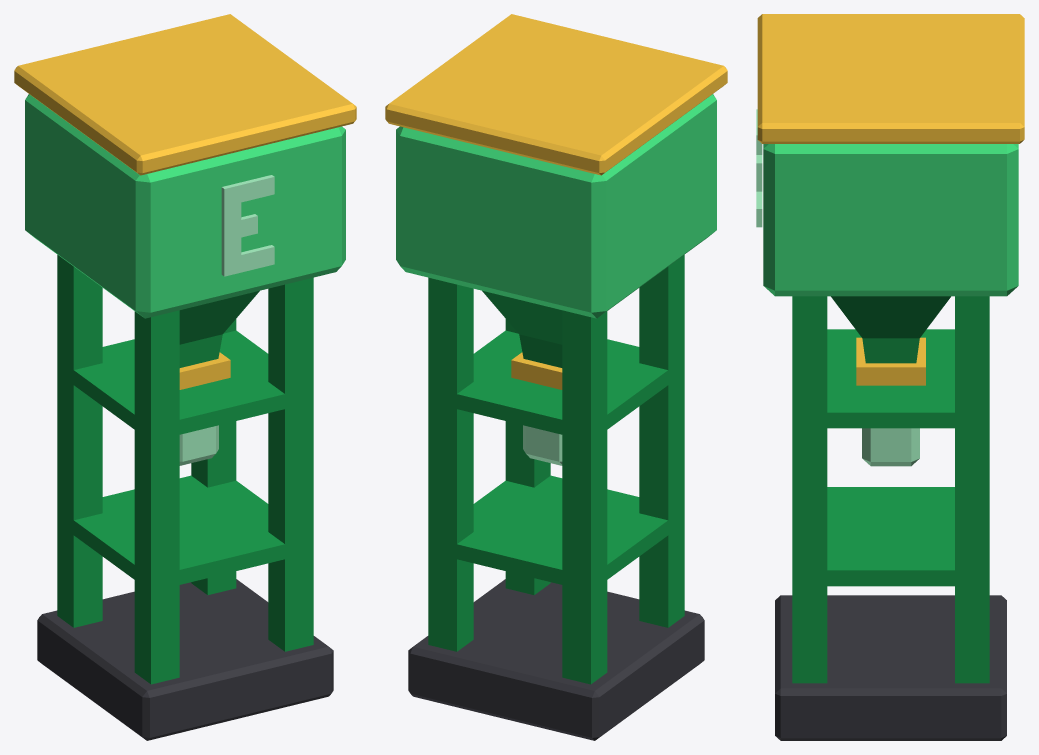
The model's file is EmeraldDropper.fbx.
3 renders of one model, left to right at view 1: azimuth 30°, elevation 25°; view 2: azimuth 150°, elevation 25°; view 3: azimuth 270°, elevation 25°, orthographic. The views are drawn at different scales.
Parts seen in each view (by area): view 1: EmeraldDropper, EmeraldDropper_Ore; view 2: EmeraldDropper, EmeraldDropper_Ore; view 3: EmeraldDropper, EmeraldDropper_Ore.
Boxes of the visible parts, box(x1,y1,x2,y2) form: EmeraldDropper: box(14, 14, 356, 740); EmeraldDropper_Ore: box(179, 425, 218, 465); EmeraldDropper: box(385, 14, 727, 740); EmeraldDropper_Ore: box(523, 425, 562, 465); EmeraldDropper: box(756, 14, 1024, 740); EmeraldDropper_Ore: box(862, 428, 919, 466).
Bounding box in the file's own units: 4.6 × 11.9 × 4.62.
Materials: 1 (1 with a texture image).
